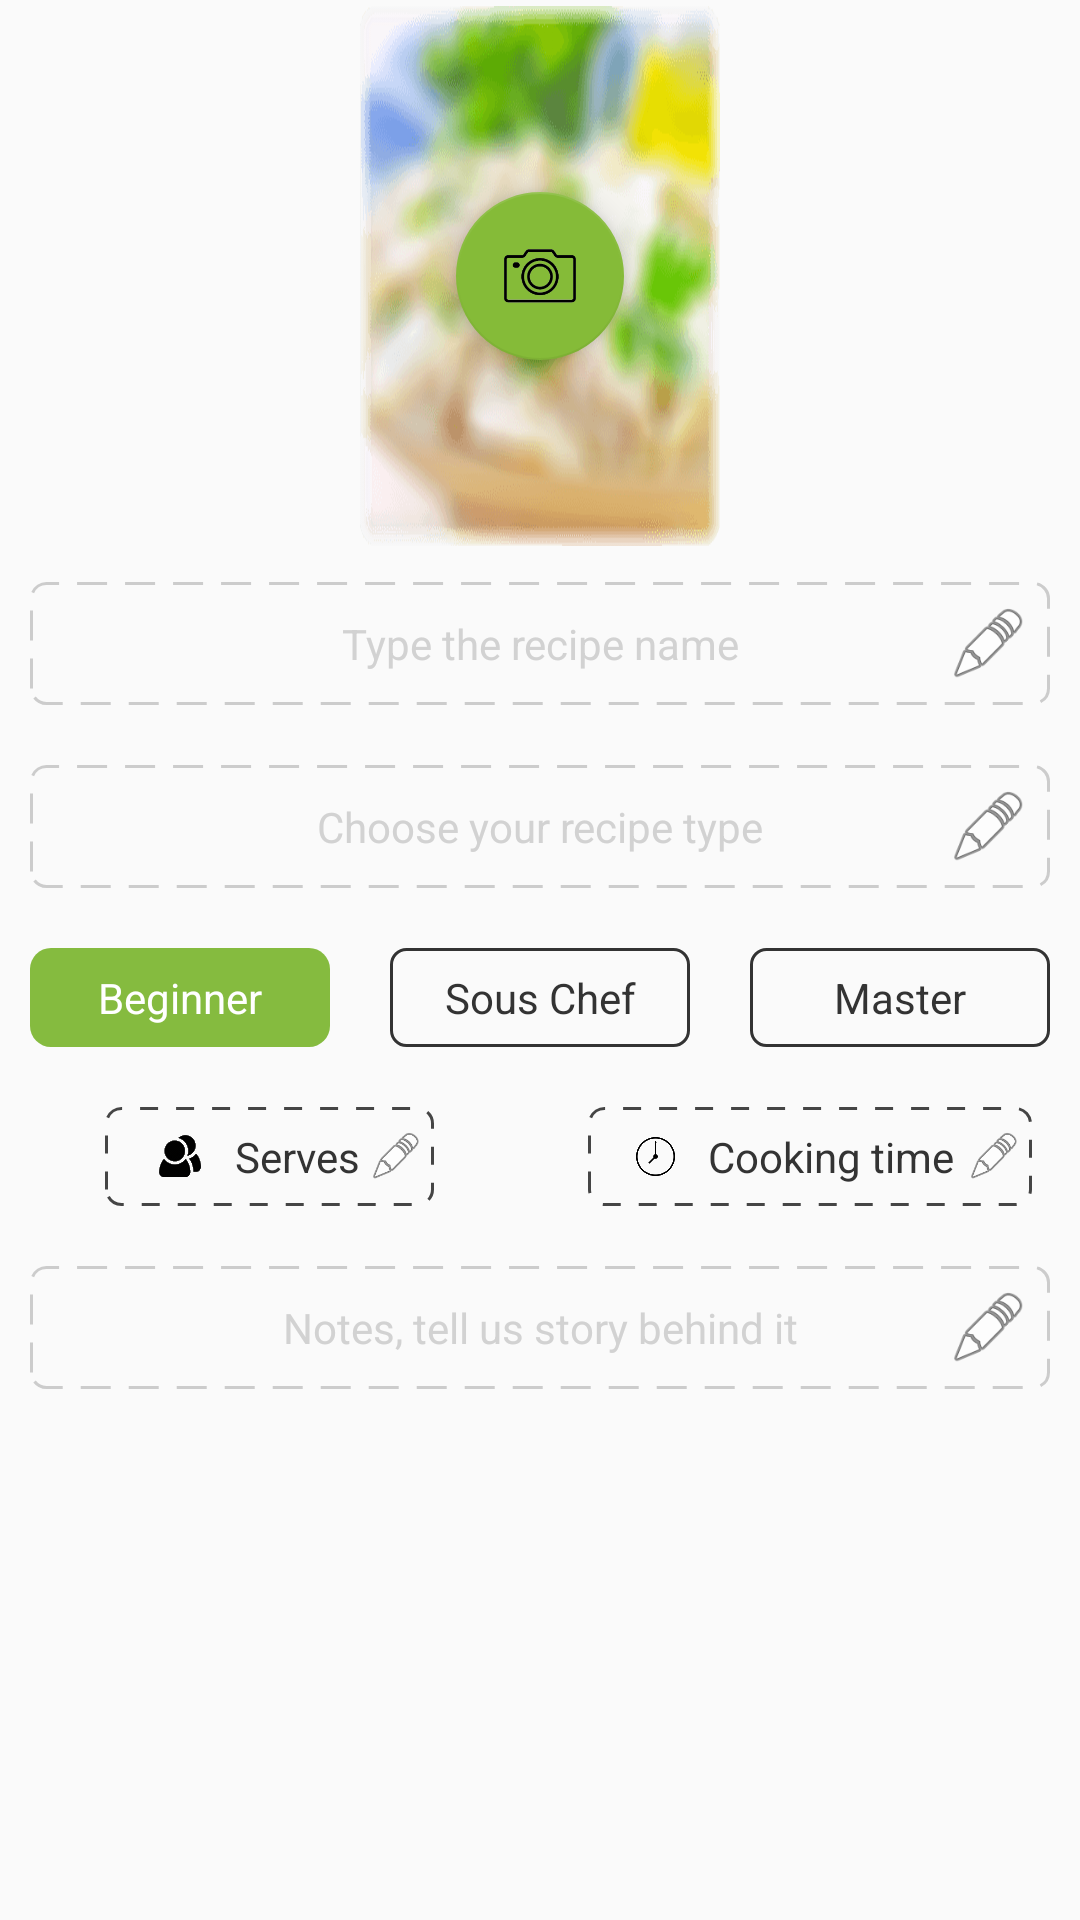

Where to tap for icons on this 1080×1920 app screen, as (x=x, y=y):
camera: (x=540, y=276)
edit: (x=988, y=643), (x=988, y=826), (x=396, y=1155), (x=994, y=1155), (x=988, y=1327)
